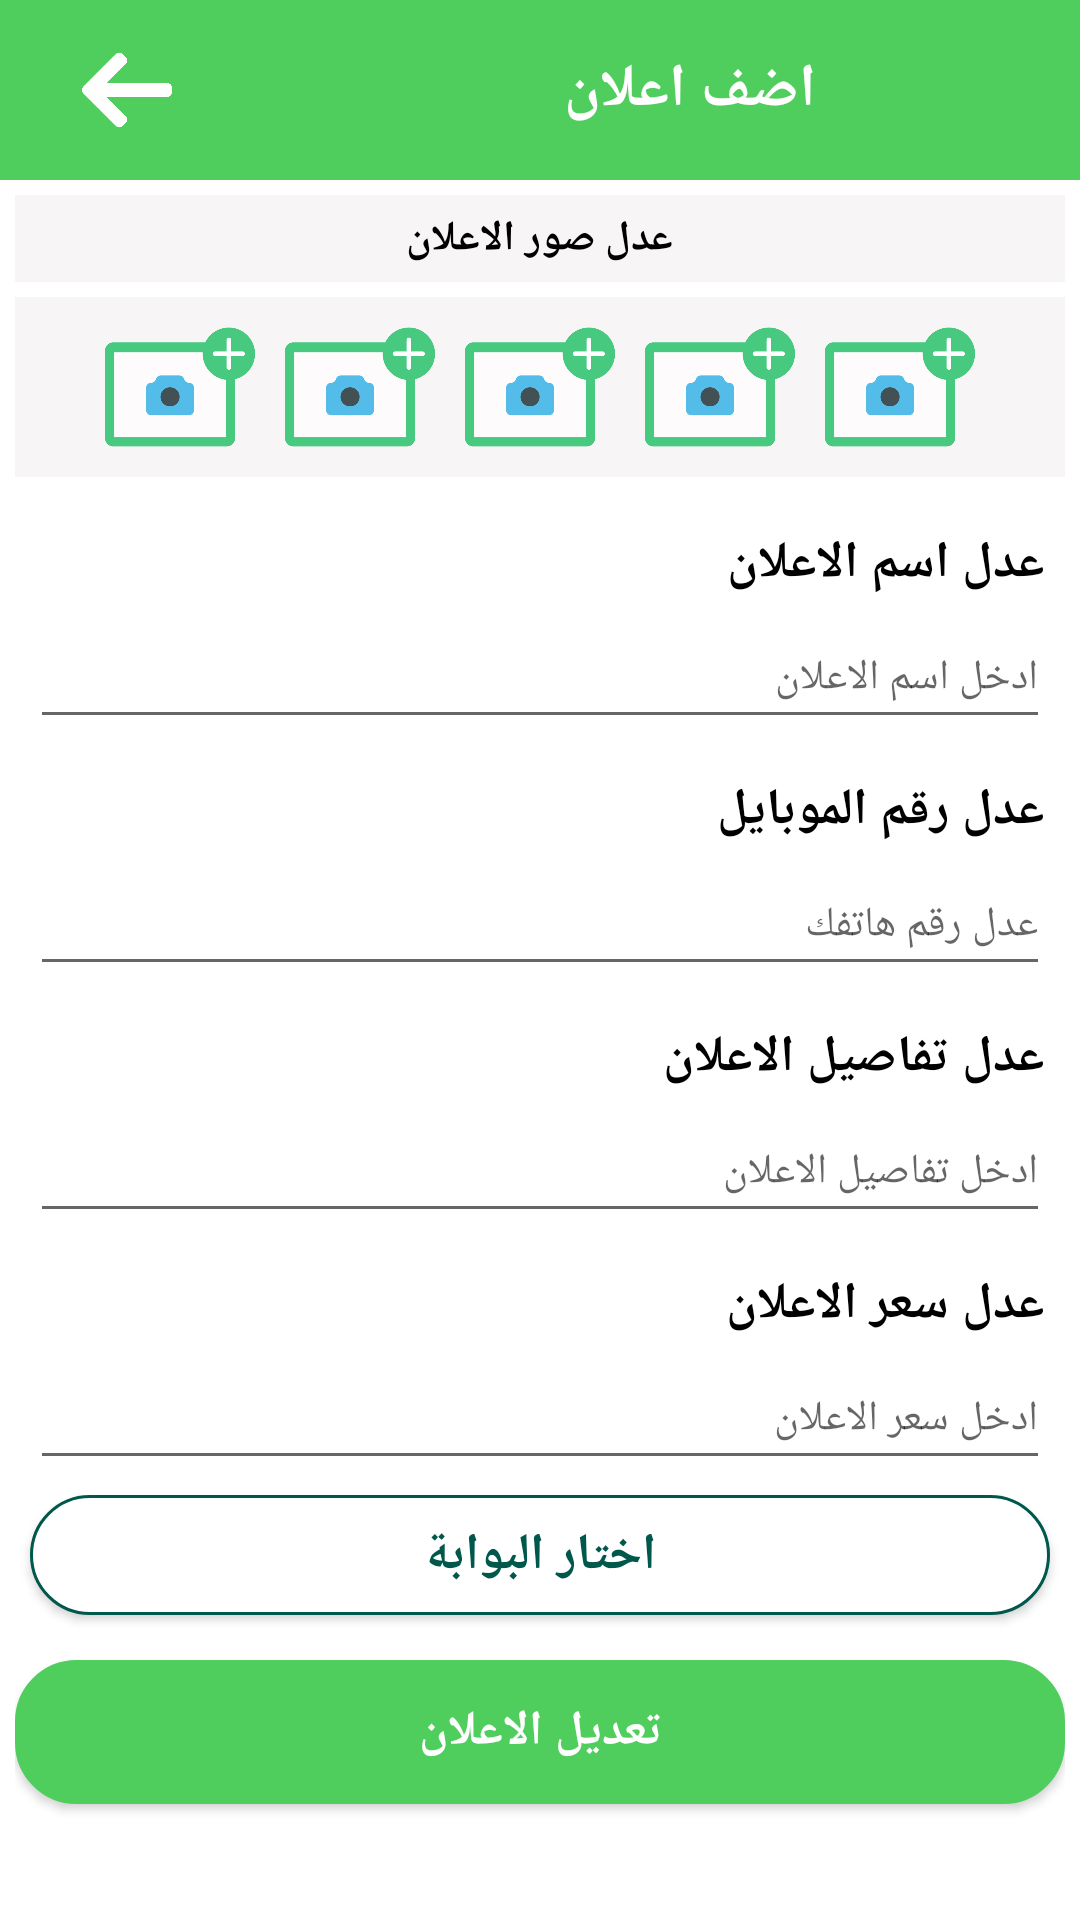

Point at icon controls on the screen. Image size 1080 × 1920, points as (x,y).
addph: (180,387), (360,387), (540,387), (720,387), (900,387)
backyyy: (127,90)
